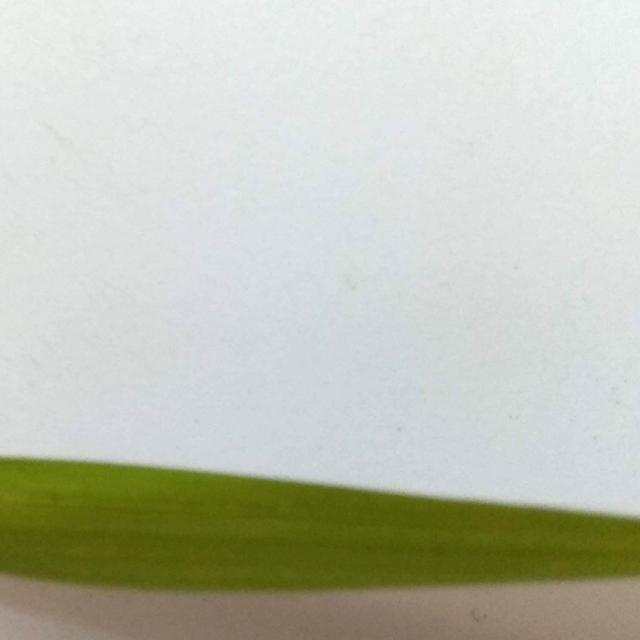Rice_Healthy: (0, 458, 640, 591)
